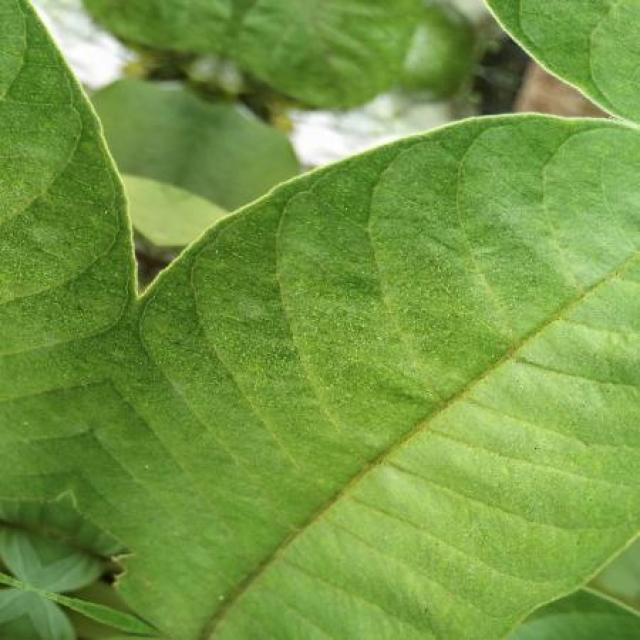Disease Free: (2, 0, 640, 640), (88, 0, 472, 106)
